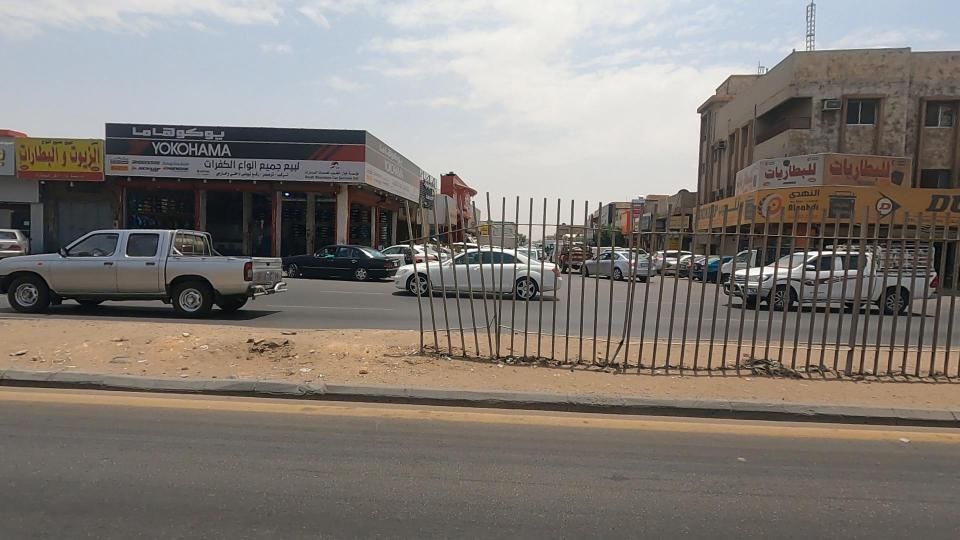CLUTTER_SIDEWALK: (0, 283, 368, 408), (223, 292, 575, 416)
UNKEPT_FACADE: (667, 0, 960, 219)
